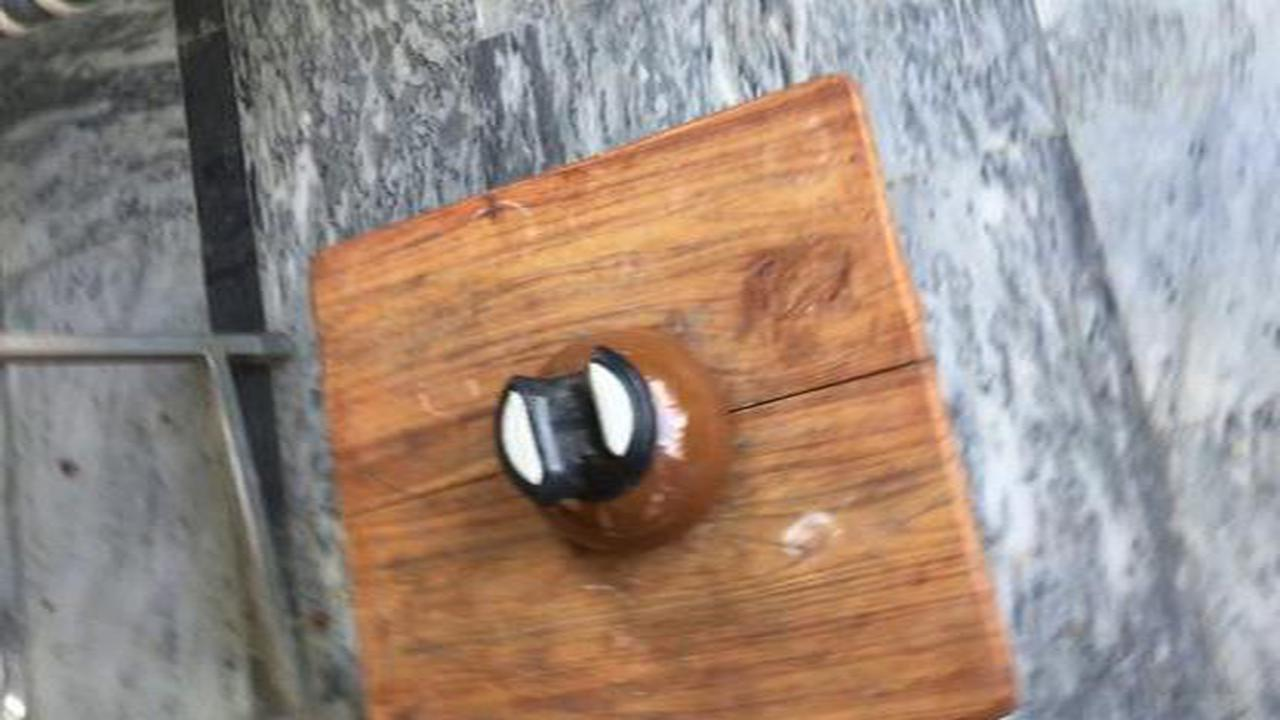insulator_pin: (468, 316, 767, 577)
